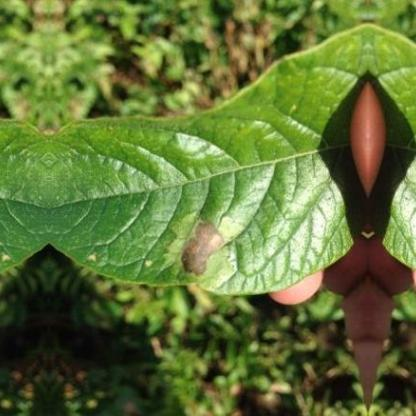Late-Blight: (48, 78, 352, 332)
